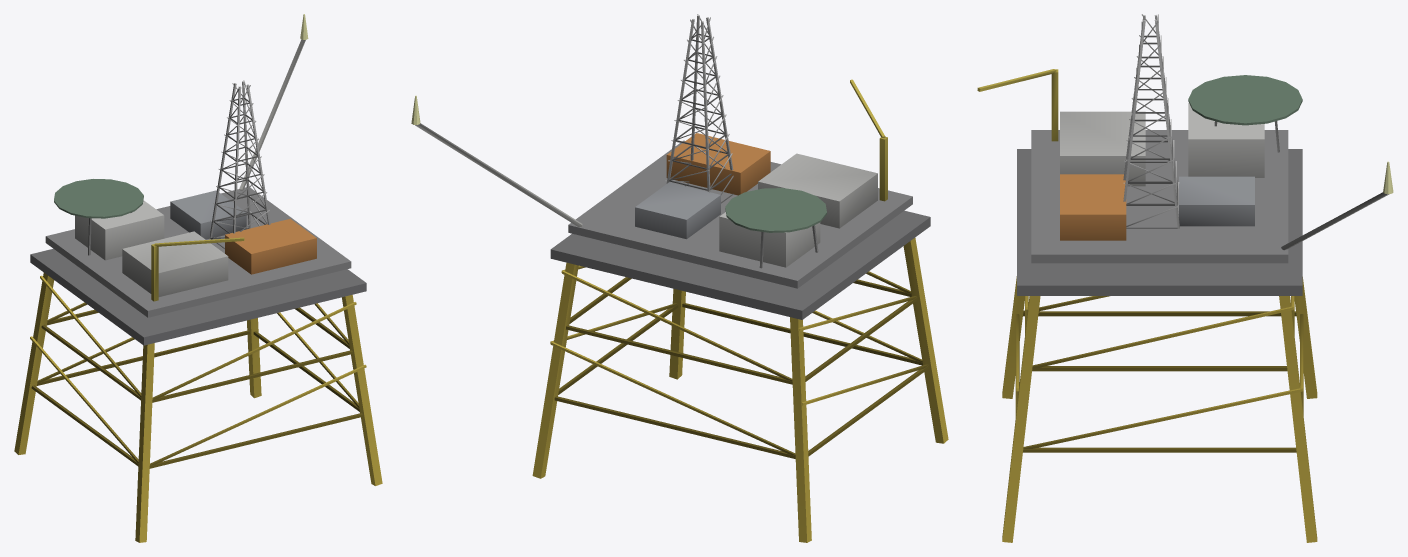
The model's file is bohrinsel.glb.
The picture shows the model from 3 angles, left to right: view 1: azimuth 30°, elevation 25°; view 2: azimuth 150°, elevation 25°; view 3: azimuth 270°, elevation 25°; orthographic projection. The views are drawn at different scales.
Visible parts, largest first — view 1: lack; view 2: lack; view 3: lack.
Part boxes in pixels (box(x1,y1,x2,y2)): lack: box(14, 39, 382, 542); lack: box(415, 14, 948, 542); lack: box(977, 14, 1389, 542).
Size of the model in its own units: 98.19 by 110 by 87.4.
